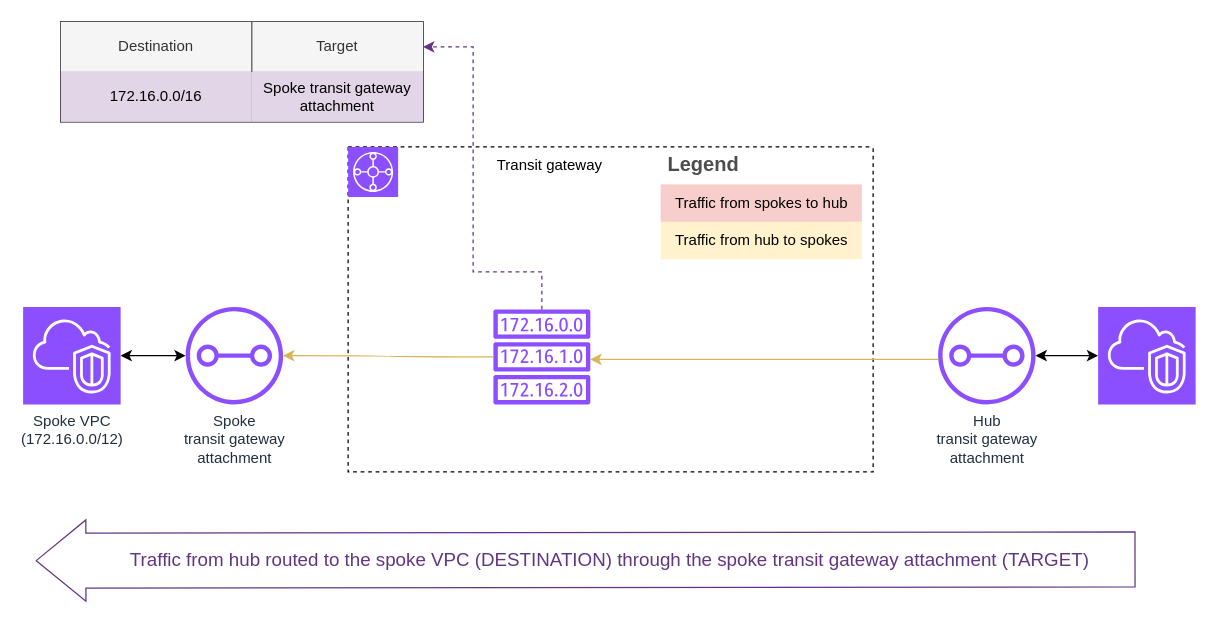
Image size: 1218x624. Some labels were removed from this diagram. Here are the shapes that lost their labels. From the top down, the box of each, then its label:
(492, 309, 590, 404): Route table (firewall to spoke)
(1097, 306, 1196, 404): Hub VPC
